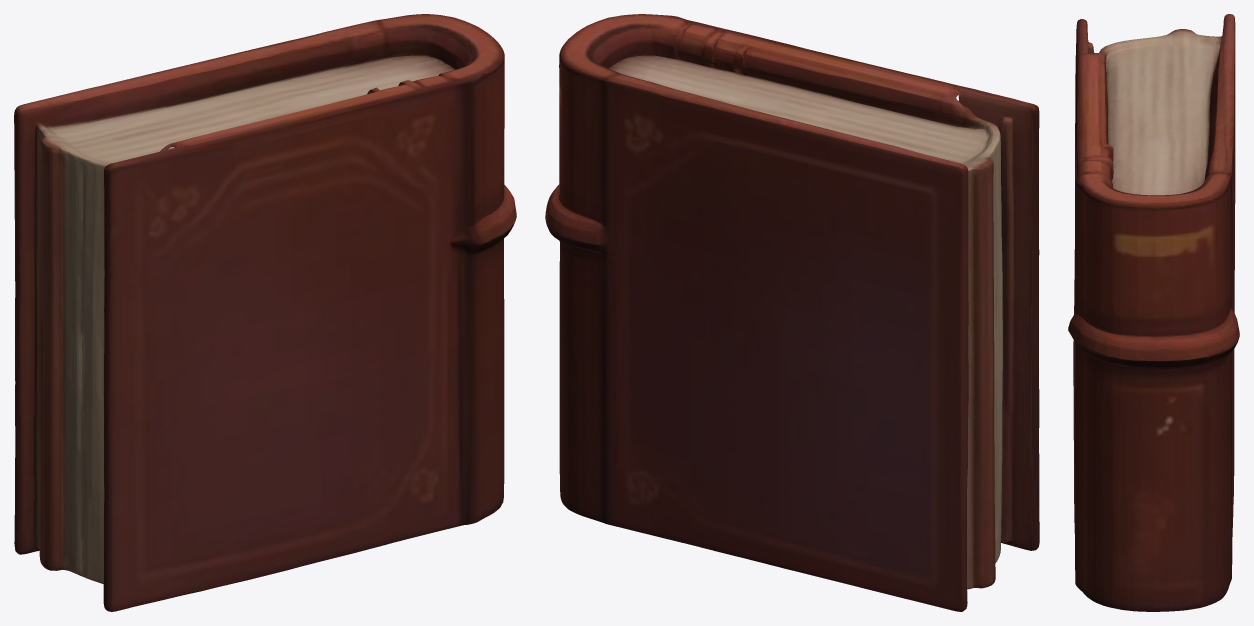
File: trap_giant_book.glb
The picture shows the model from 3 angles, left to right: view 1: azimuth 30°, elevation 25°; view 2: azimuth 150°, elevation 25°; view 3: azimuth 270°, elevation 25°; orthographic projection. The views are drawn at different scales.
Visible parts, largest first — view 1: world; view 2: world; view 3: world.
Boxes of the visible parts, x1,y1,x2,y2 form: world: (14,14,516,611); world: (545,14,1039,611); world: (1068,14,1239,611).
Bounding box in the file's own units: 1 × 0.9632 × 0.3663.
Materials: 1 (1 with a texture image).
